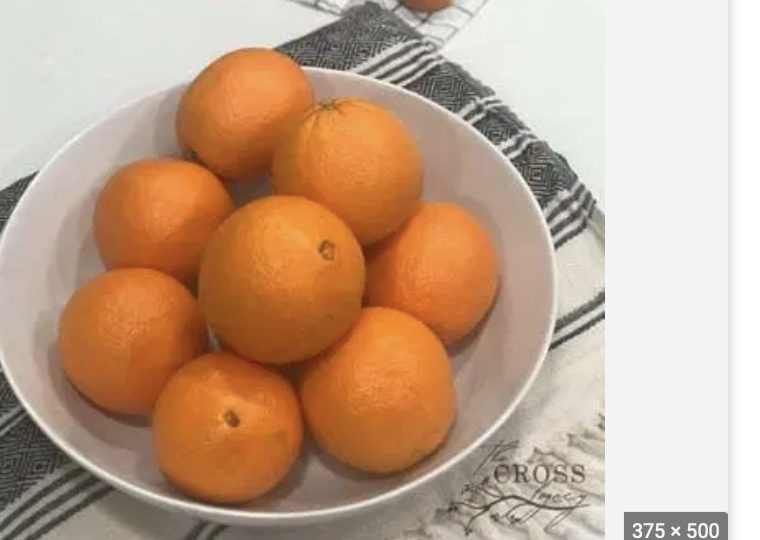orange: (193, 191, 372, 362), (334, 184, 529, 336), (291, 298, 456, 476), (143, 334, 303, 506), (33, 262, 212, 412), (170, 40, 324, 173)
